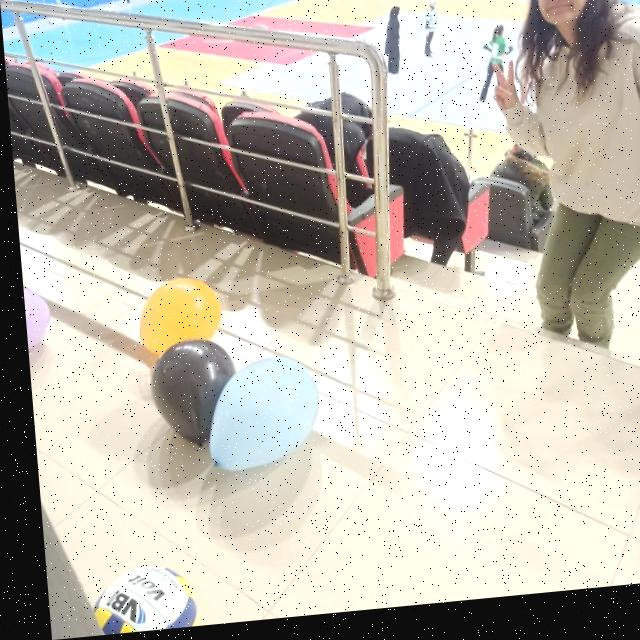balloon: (201, 354, 320, 480), (141, 335, 234, 452), (132, 277, 221, 354)
